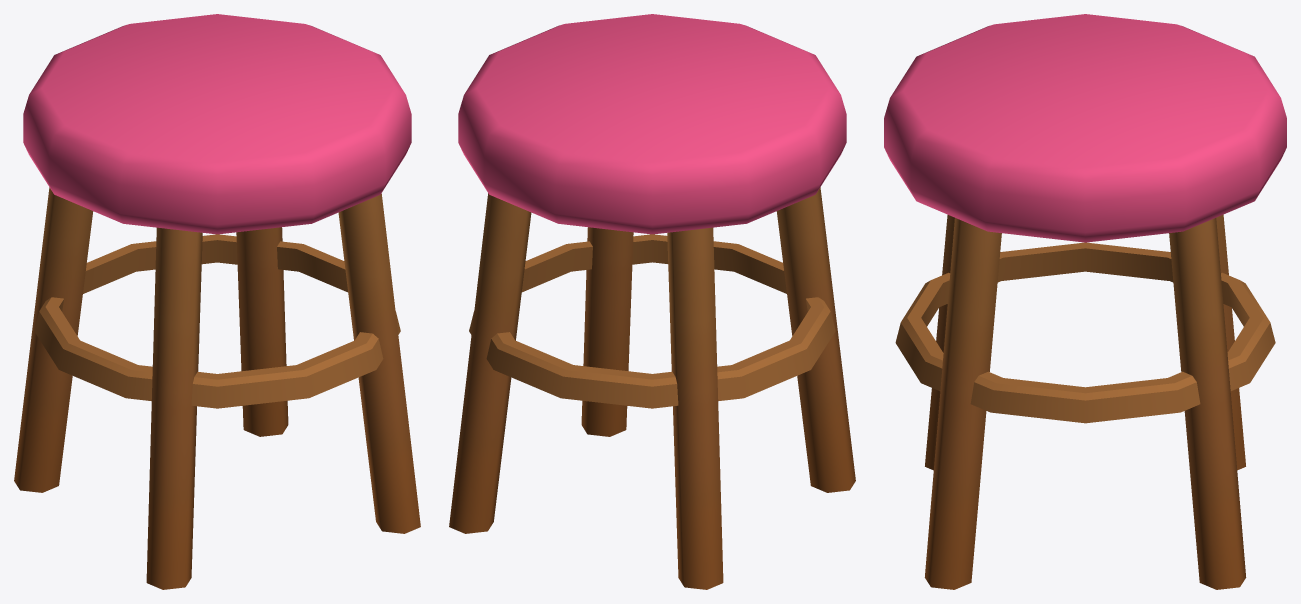
File: Chair_1_D.fbx
The picture shows the model from 3 angles, left to right: view 1: azimuth 30°, elevation 25°; view 2: azimuth 150°, elevation 25°; view 3: azimuth 270°, elevation 25°; orthographic projection. The views are drawn at different scales.
Visible parts, largest first — view 1: Chair_1_D; view 2: Chair_1_D; view 3: Chair_1_D.
Boxes of the visible parts, <box> form: Chair_1_D: <box>14,14,420,589</box>; Chair_1_D: <box>449,14,855,589</box>; Chair_1_D: <box>884,14,1286,589</box>.
Size of the model in its own units: 50.02 by 59.1 by 50.04.
